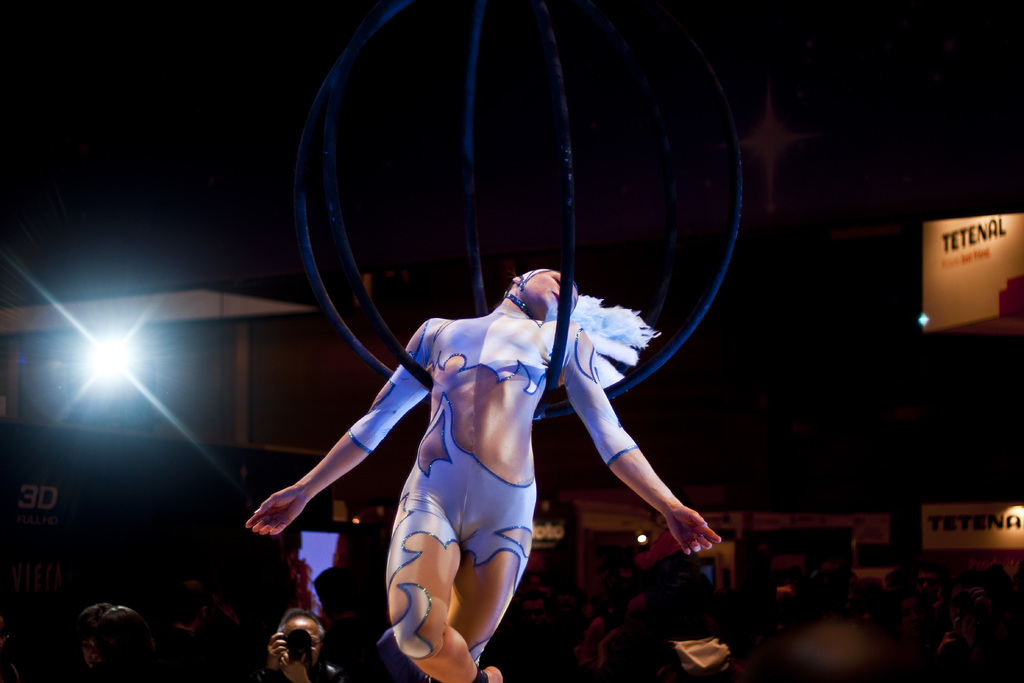Person: (243, 264, 721, 683), (0, 563, 1024, 683)
